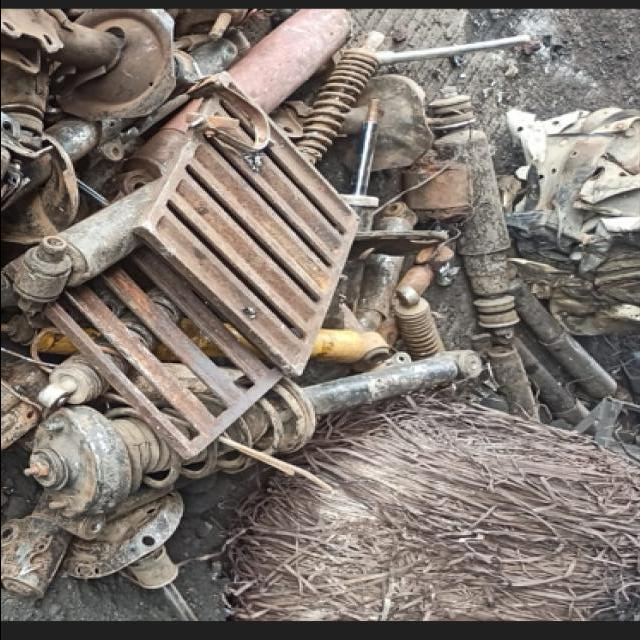shock absorber: (22, 350, 481, 519), (294, 30, 385, 164), (391, 284, 443, 362)
